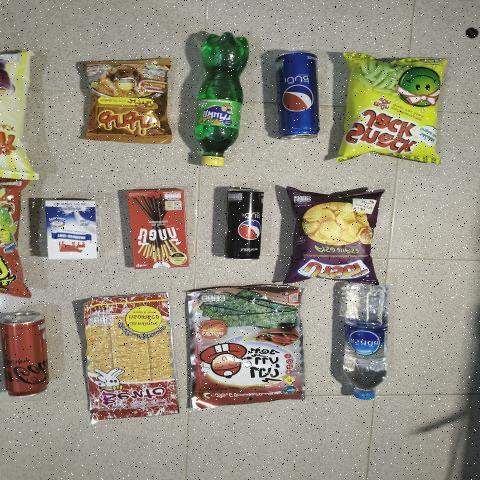bento_red: (88, 301, 177, 421)
coke_red: (0, 311, 55, 406)
crystal: (335, 273, 395, 404)
fanta_green: (192, 29, 253, 171)
mama: (83, 59, 174, 137)
party_purple: (304, 194, 371, 278)
pepsi_black: (227, 180, 265, 260)
pepsi_blue: (280, 49, 321, 144)
pokki: (131, 189, 186, 269)
snack_jack: (344, 57, 445, 162)
taokaenoi: (203, 290, 299, 402)
thai_denmark: (51, 209, 95, 258)
